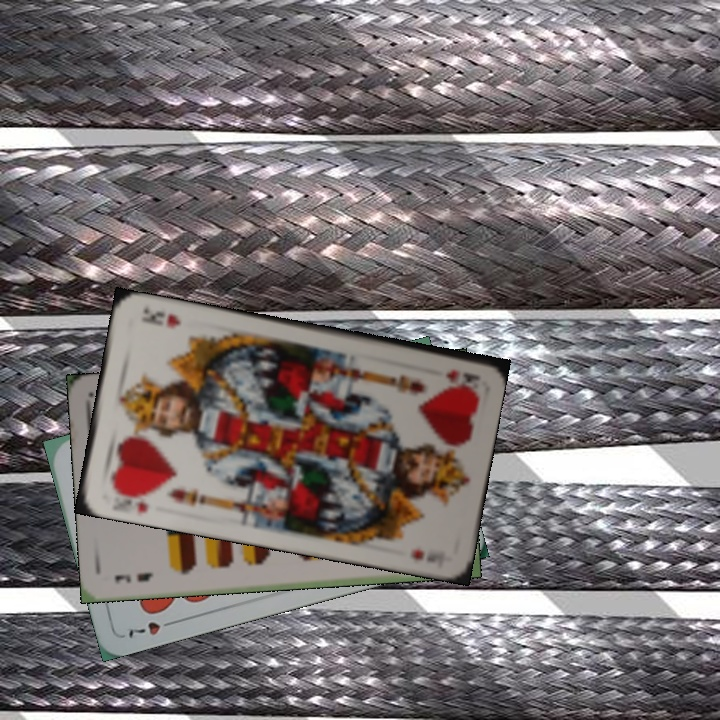E7: (111, 568, 156, 586)
H7: (124, 615, 179, 641)
HK: (109, 483, 151, 516), (441, 366, 480, 386)
